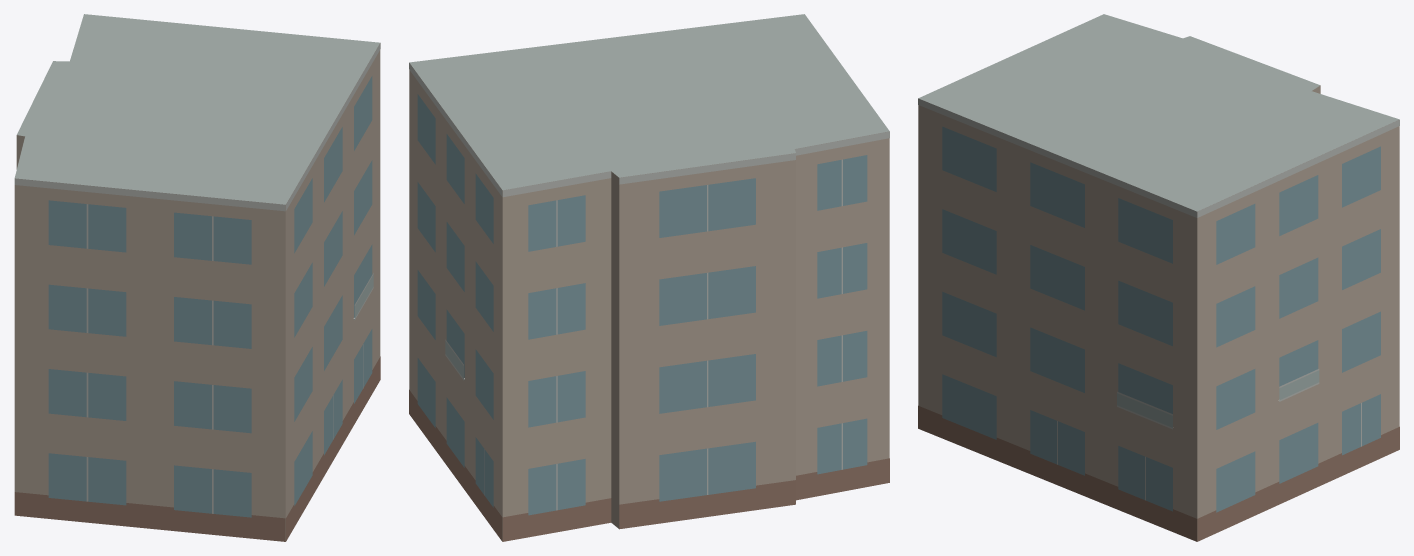
Rendered from survey-upis-32921901.glb.
3 renders of one model, left to right at view 1: azimuth 30°, elevation 25°; view 2: azimuth 150°, elevation 25°; view 3: azimuth 270°, elevation 25°, orthographic. The views are drawn at different scales.
Parts seen in each view (by area): view 1: survey-upis-32921901.tmp; view 2: survey-upis-32921901.tmp; view 3: survey-upis-32921901.tmp.
Boxes of the visible parts, <box> form: survey-upis-32921901.tmp: <box>14,14,380,541</box>; survey-upis-32921901.tmp: <box>409,14,889,541</box>; survey-upis-32921901.tmp: <box>918,14,1399,541</box>.
Size of the model in its own units: 15.92 by 12.4 by 16.4.
